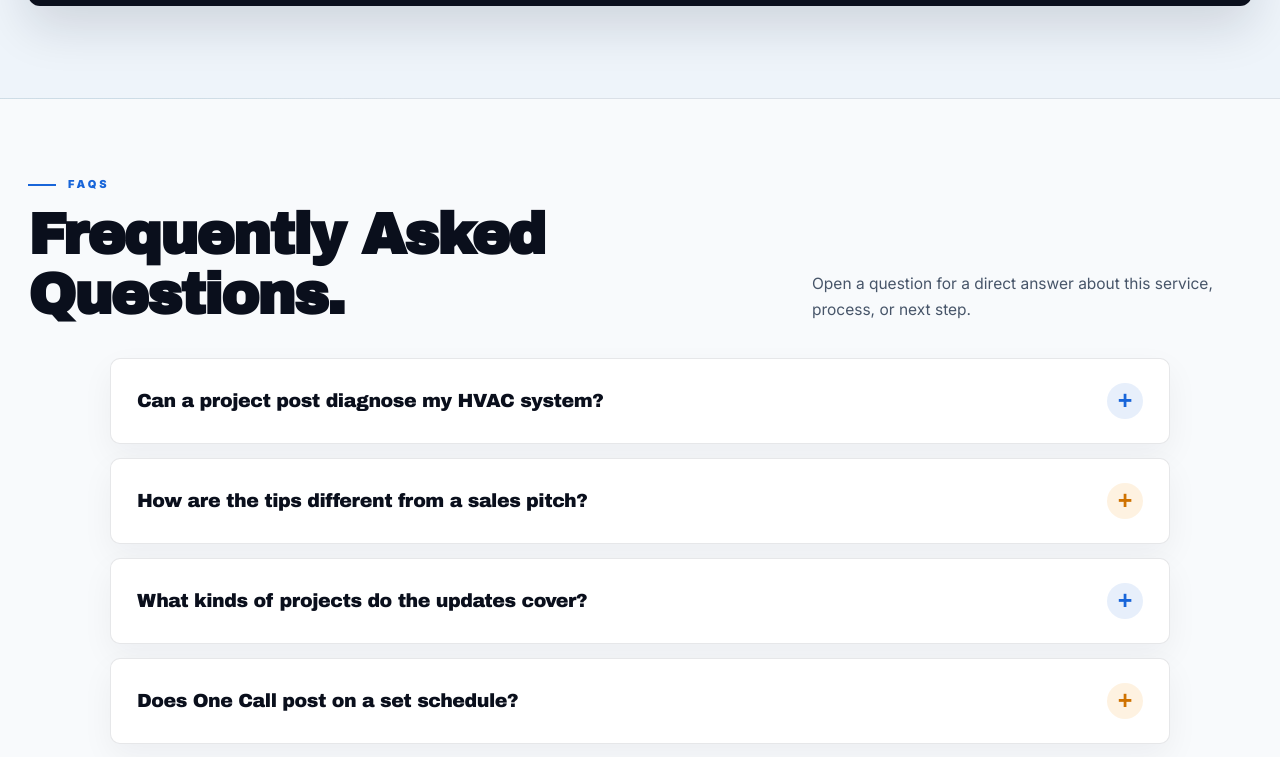
Test case: page answer sections › renders /about/social-media answers visibly and mirrors them in structured data
(page scrolled)
What coordinates should you click on to do the following:
click the button "Can a project post diagnose my HVAC system?"
I would click on:
 (370, 400)
Its box is [111,359,1169,443].
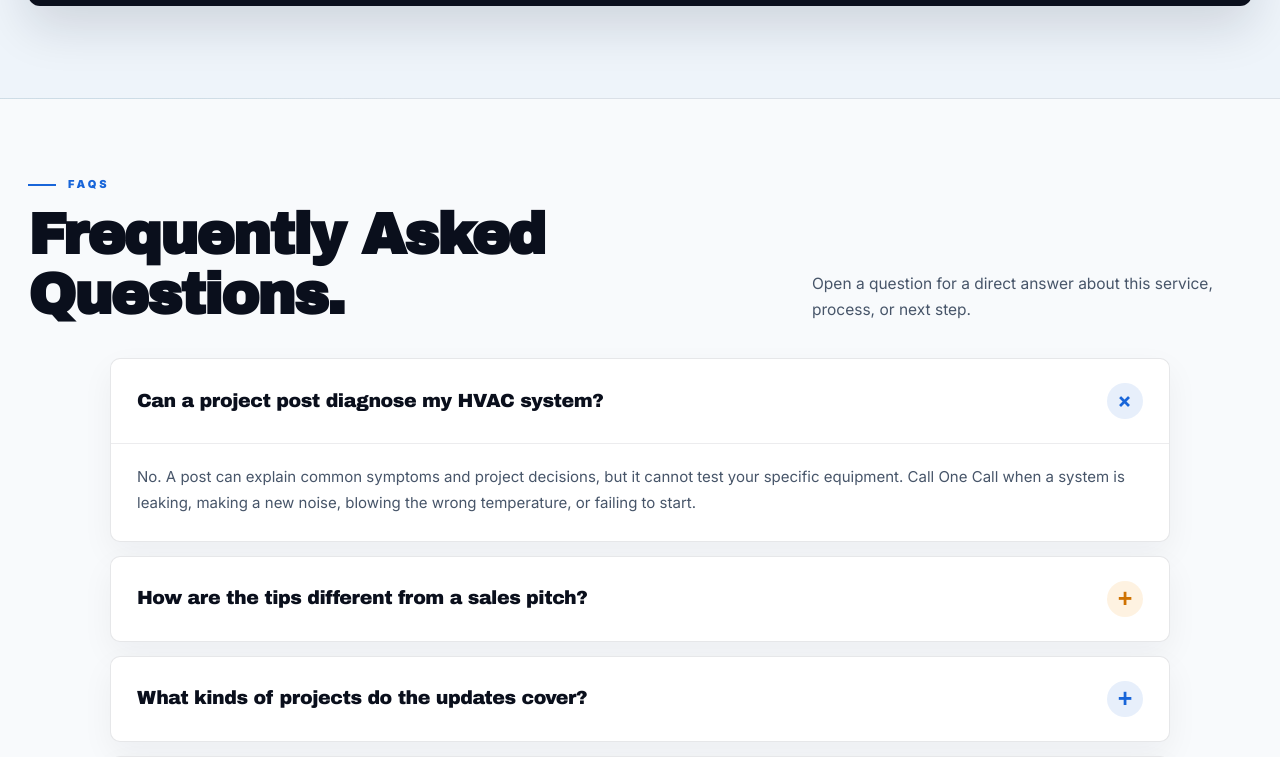
Check: the button "Can a project post diagnose my HVAC system?" is expanded, box [111,359,1169,443]
